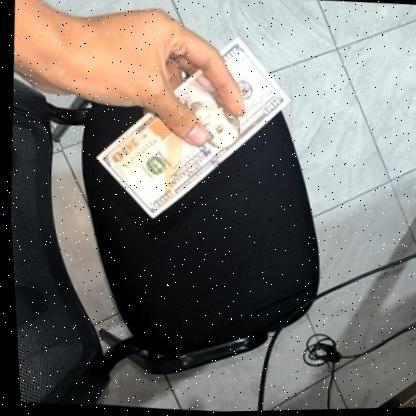dollar_front: (84, 25, 300, 231)
